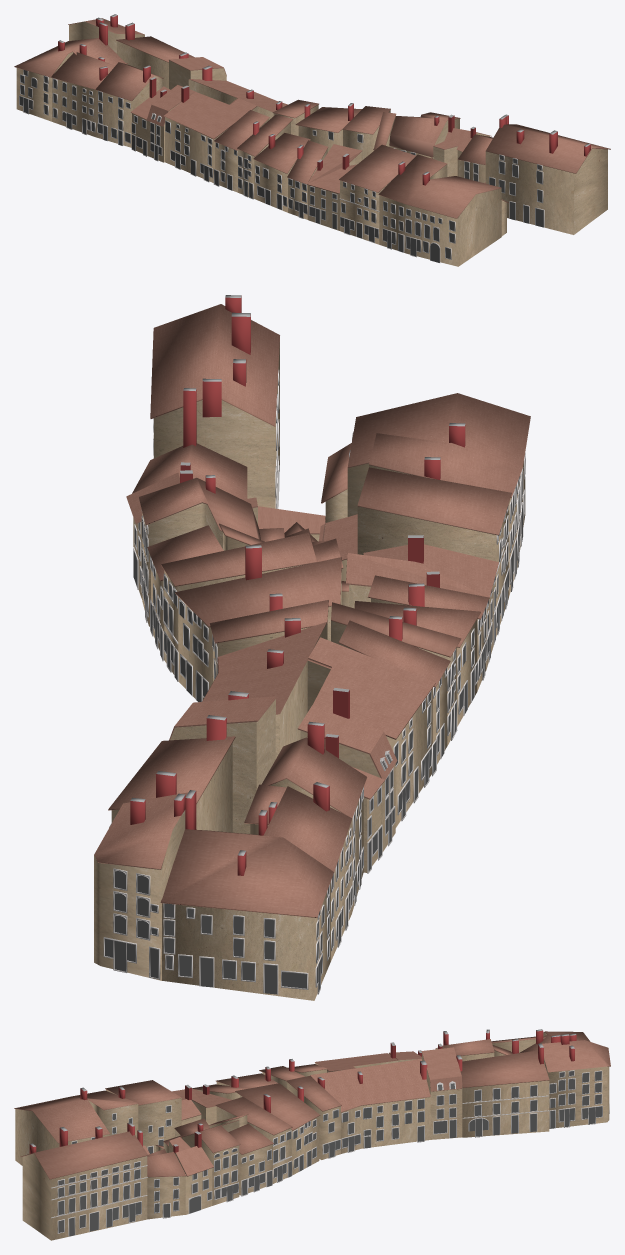
File: ilot33combine.fbx
3 renders of one model, top to bottom at view 1: azimuth 30°, elevation 25°; view 2: azimuth 150°, elevation 25°; view 3: azimuth 270°, elevation 25°, orthographic. The views are drawn at different scales.
Visible parts, largest first — view 1: _ILOT33BAT6, _ILOT33BAT7, _ILOT33BAT25, _ILOT33BAT27, _ILOT33BAT12, _ILOT33BAT2, _ILOT33BAT18, _ILOT33BAT20, _ILOT33BAT11, _ILOT33BAT3, _ILOT33BAT29, _ILOT33BAT24 (+12 smaller); view 2: _ILOT33BAT2, _ILOT33BAT6, _ILOT33BAT7, _ILOT33BAT1, _ILOT33BAT25, _ILOT33BAT12, _ILOT33BAT27, _ILOT33BAT9, _ILOT33BAT3, _ILOT33BAT4, _ILOT33BAT18, _ILOT33BAT5 (+16 smaller); view 3: _ILOT33BAT6, _ILOT33BAT4, _ILOT33BAT3, _ILOT33BAT7, _ILOT33BAT1, _ILOT33BAT9, _ILOT33BAT5, _ILOT33BAT12, _ILOT33BAT11, _ILOT33BAT16, _ILOT33BAT10, _ILOT33BAT14 (+12 smaller).
Part boxes in pixels (x1,y1,x2,y2): _ILOT33BAT6: (485,115,610,234); _ILOT33BAT7: (378,154,501,266); _ILOT33BAT25: (51,52,163,147); _ILOT33BAT27: (164,91,257,186); _ILOT33BAT12: (339,144,415,244); _ILOT33BAT2: (14,22,125,121); _ILOT33BAT18: (307,144,362,230); _ILOT33BAT20: (253,133,310,212); _ILOT33BAT11: (389,112,460,158); _ILOT33BAT3: (116,22,194,88); _ILOT33BAT29: (214,110,269,192); _ILOT33BAT24: (237,114,293,199); _ILOT33BAT2: (160,790,334,1000); _ILOT33BAT6: (150,295,279,508); _ILOT33BAT7: (347,393,530,597); _ILOT33BAT1: (94,792,188,980); _ILOT33BAT25: (261,721,366,961); _ILOT33BAT12: (357,467,511,636); _ILOT33BAT27: (307,637,436,827); _ILOT33BAT9: (175,545,341,701); _ILOT33BAT3: (108,715,235,866); _ILOT33BAT4: (202,618,326,758); _ILOT33BAT18: (346,535,498,670); _ILOT33BAT5: (169,696,276,833); _ILOT33BAT6: (20,1122,148,1240); _ILOT33BAT4: (310,1059,430,1153); _ILOT33BAT3: (456,1043,549,1137); _ILOT33BAT7: (14,1086,138,1165); _ILOT33BAT1: (542,1034,610,1128); _ILOT33BAT9: (235,1083,320,1175); _ILOT33BAT5: (421,1047,462,1139); _ILOT33BAT12: (105,1080,181,1153); _ILOT33BAT11: (181,1120,240,1205); _ILOT33BAT16: (137,1130,186,1219); _ILOT33BAT10: (215,1097,292,1183); _ILOT33BAT14: (169,1131,213,1214).
Bounding box in the file's own units: 12.37 × 3.18 × 18.2.
